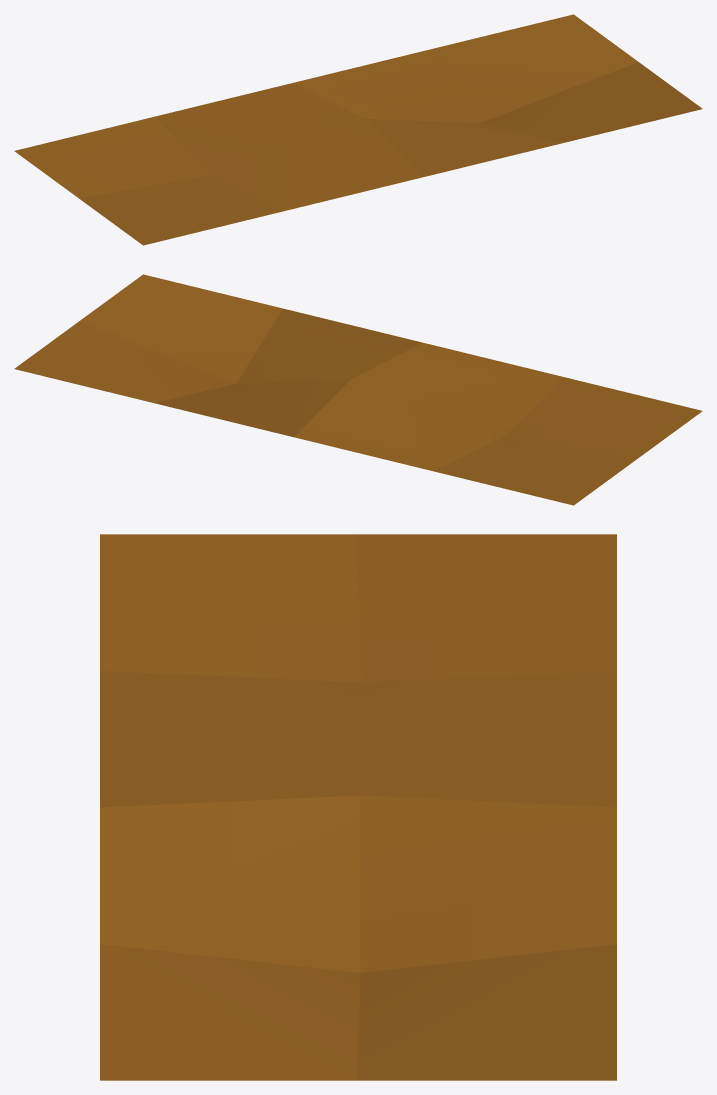
The model's file is cGround_B_Under_3_.glb.
3 views of the same model, one above another, from view 1: azimuth 30°, elevation 25°; view 2: azimuth 150°, elevation 25°; view 3: azimuth 270°, elevation 25° (orthographic). The views are drawn at different scales.
Parts seen in each view (by area): view 1: cGround_B_Under_3; view 2: cGround_B_Under_3; view 3: cGround_B_Under_3.
Boxes of the visible parts, x1,y1,x2,y2 form: cGround_B_Under_3: [14, 14, 702, 245]; cGround_B_Under_3: [14, 274, 702, 505]; cGround_B_Under_3: [100, 534, 616, 1080].
Size of the model in its own units: 10 by 0.5571 by 4.
Materials: 1 (1 with a texture image).
